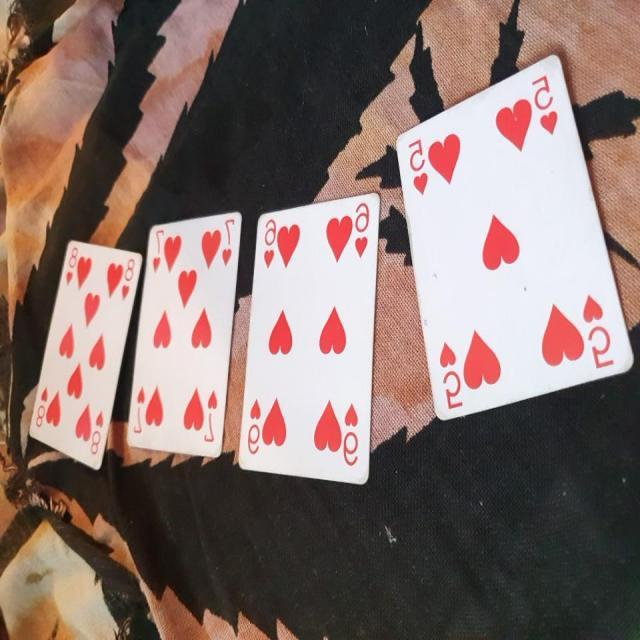5 of hearts: (390, 49, 632, 432)
6 of hearts: (236, 187, 386, 492)
7 of hearts: (120, 194, 249, 466)
8 of hearts: (18, 231, 152, 483)
